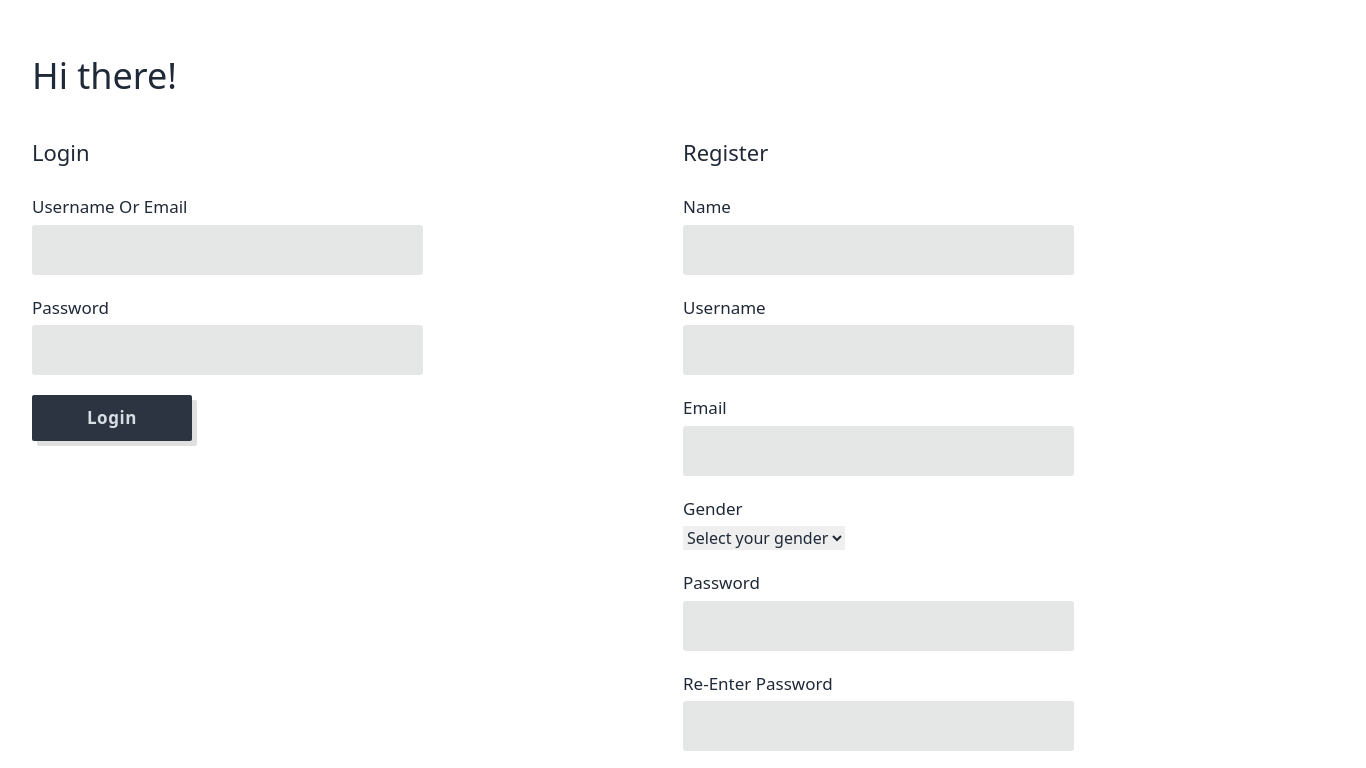
Test: Testing login component › should show an error message if there is an issue from the server
In the field labelled "Username or Email": (227, 250) [32,224,423,274], type "eazi@gmail.com"
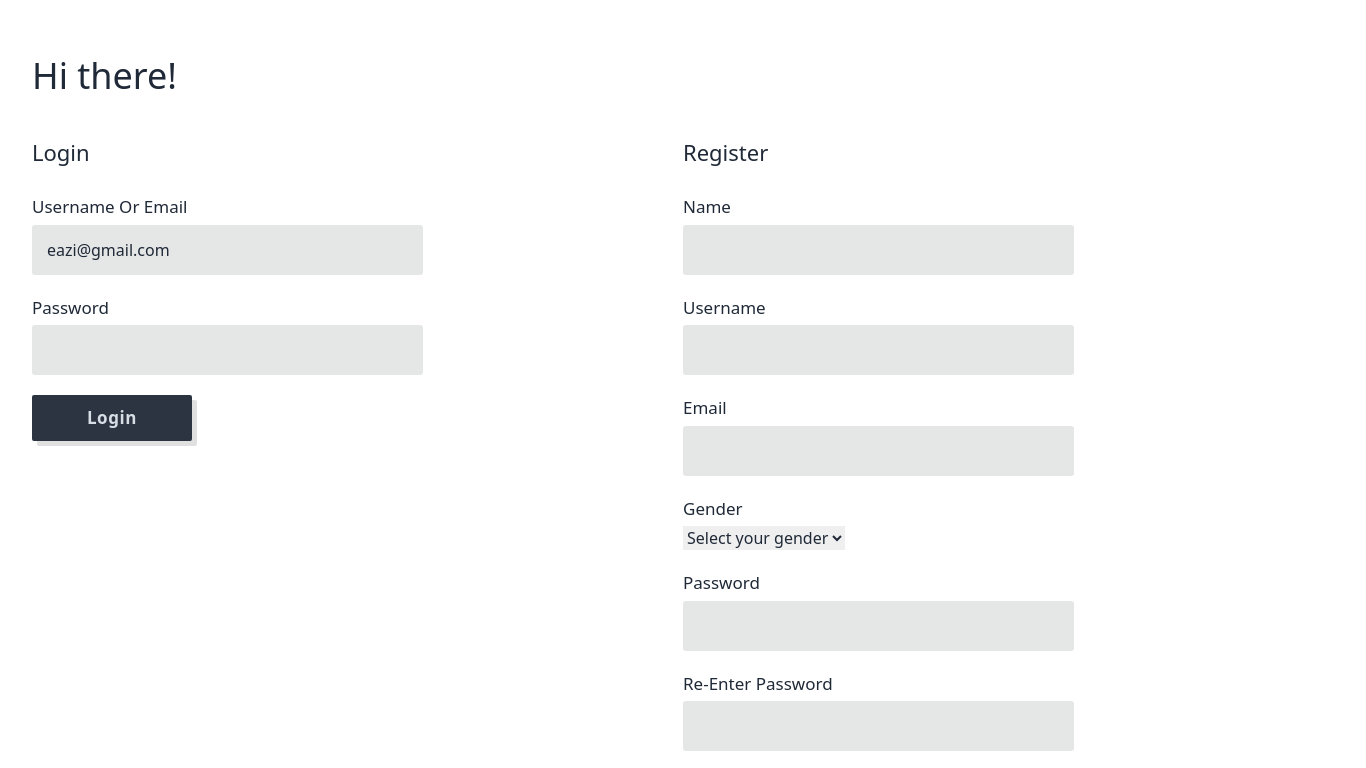
In the password field with test id "login password": (227, 350) [32,325,423,375], type "12345"
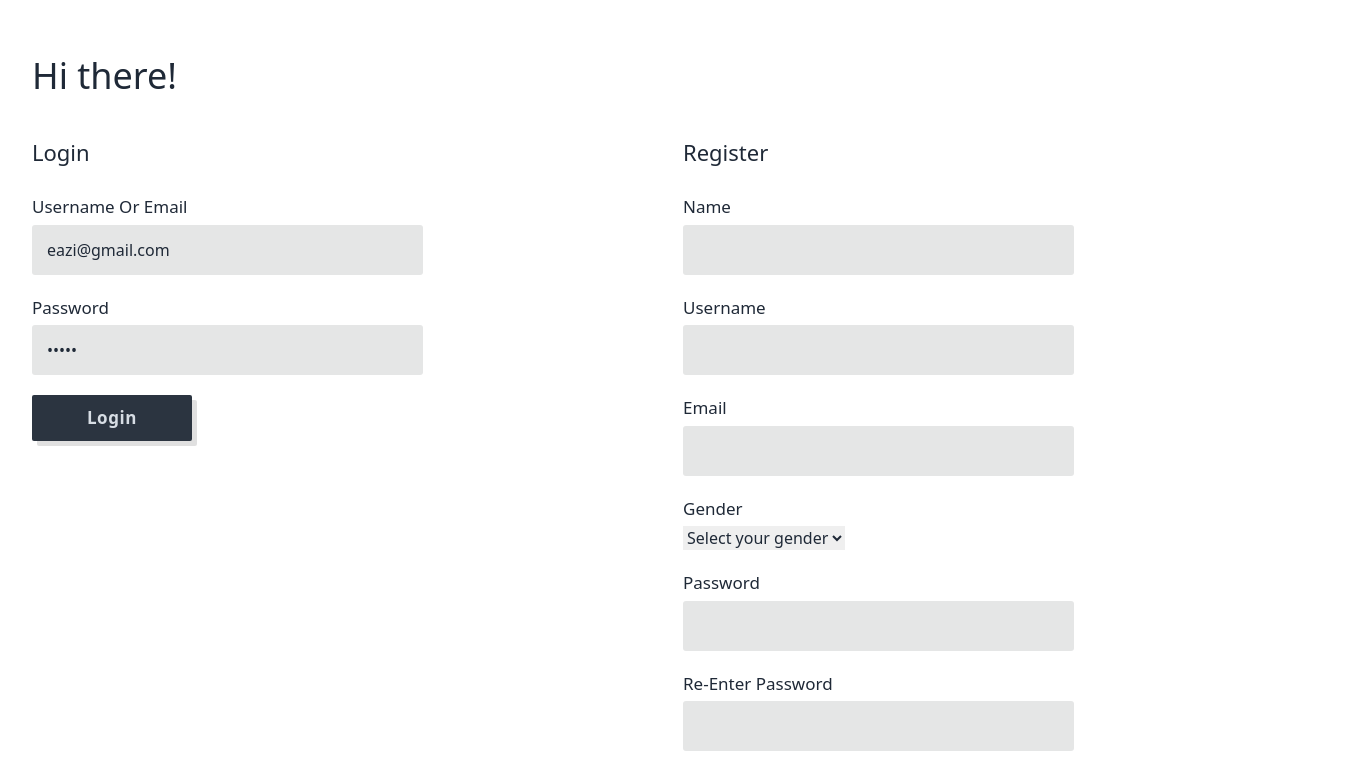
Click the button "Login": (112, 418) [32,395,192,440]
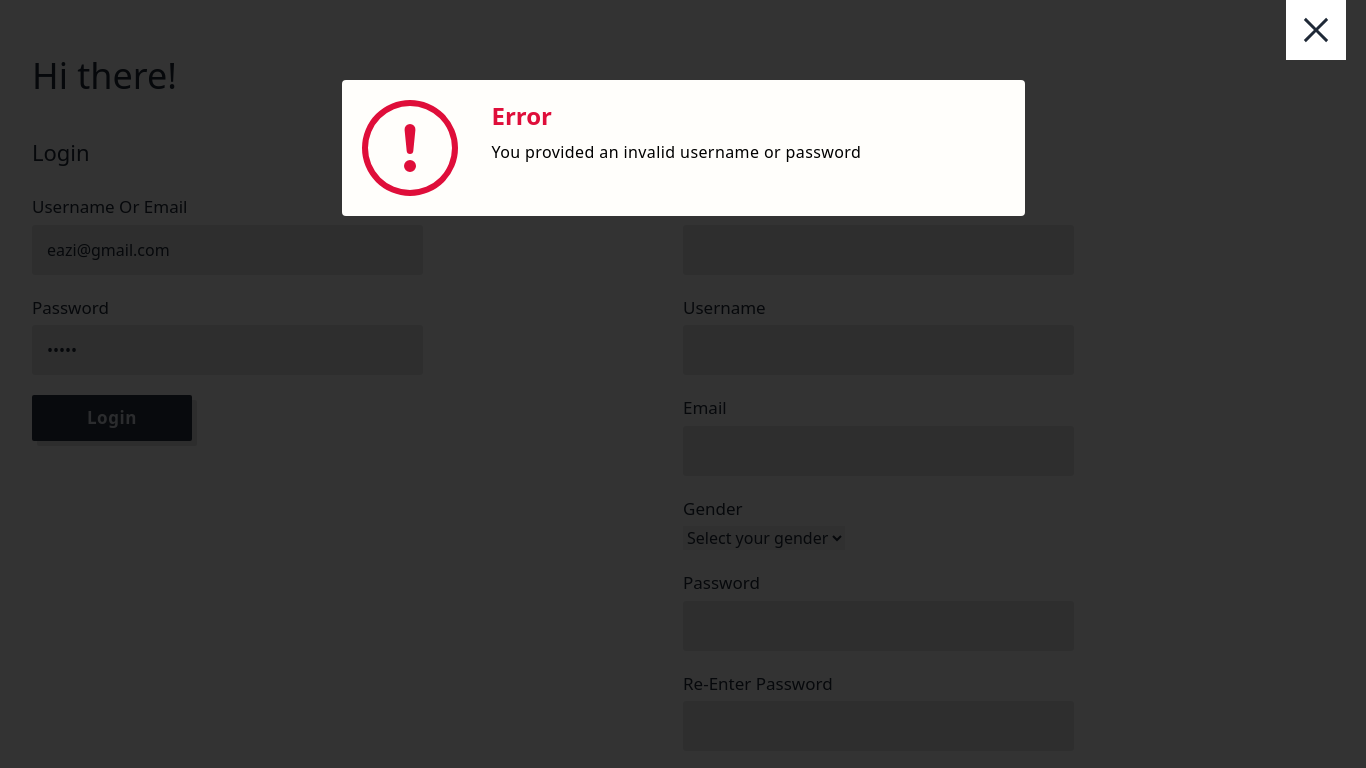
Expected: the text "you provided an invalid username or password" is shown, [492,141,861,163]
